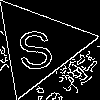S: (13, 20, 56, 72)
